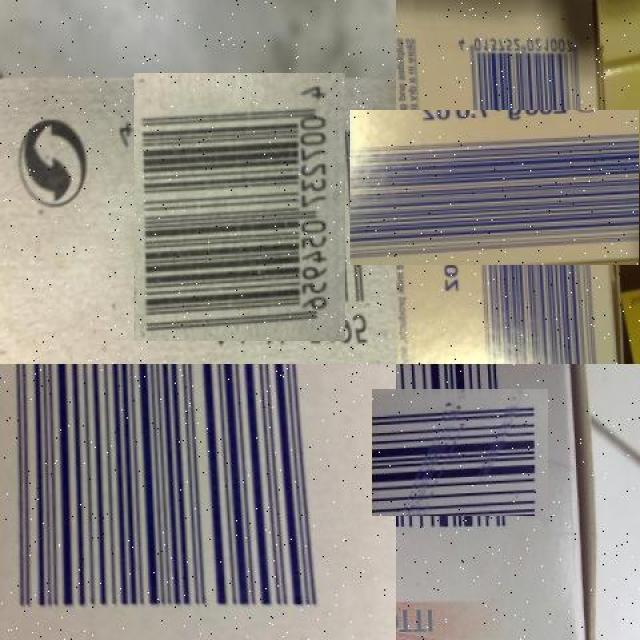Barcode: (0, 364, 351, 640), (398, 61, 640, 314), (120, 88, 360, 328), (384, 376, 536, 528)
